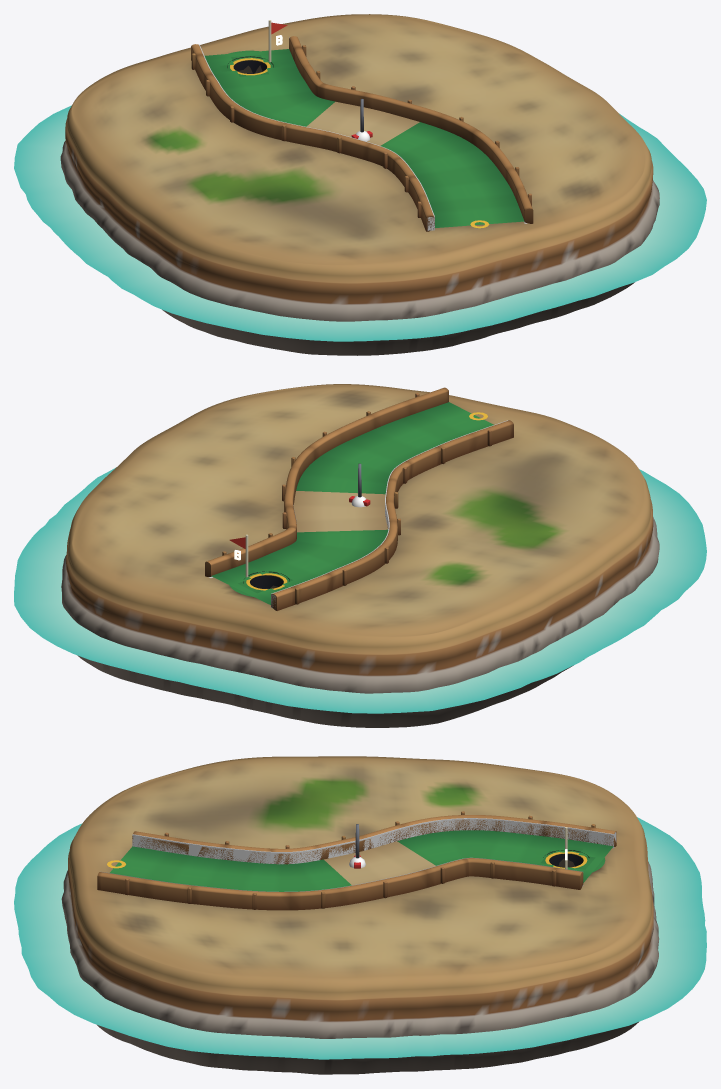
The model's file is course-08.glb.
3 views of the same model, one above another, from view 1: azimuth 30°, elevation 25°; view 2: azimuth 150°, elevation 25°; view 3: azimuth 270°, elevation 25° (orthographic). The views are drawn at different scales.
Parts seen in each view (by area): view 1: scenery-matte, water-shore, surface-grass, rail-trim-left, rail-trim-right, surface-sand; view 2: scenery-matte, water-shore, surface-grass, rail-trim-left, rail-trim-right, surface-sand; view 3: scenery-matte, water-shore, surface-grass, rail-trim-right, rail-left, rail-trim-left, surface-sand.
Boxes of the visible parts, <box> form: scenery-matte: <box>60,14,659,355</box>; water-shore: <box>14,105,706,341</box>; surface-grass: <box>204,49,524,227</box>; rail-trim-left: <box>191,44,434,231</box>; rail-trim-right: <box>289,36,533,223</box>; surface-sand: <box>306,101,419,145</box>; scenery-matte: <box>61,384,659,727</box>; water-shore: <box>14,467,706,713</box>; surface-grass: <box>211,402,493,604</box>; rail-trim-left: <box>271,420,513,610</box>; rail-trim-right: <box>205,387,448,576</box>; surface-sand: <box>293,491,387,532</box>; scenery-matte: <box>61,756,659,1074</box>; water-shore: <box>14,817,706,1059</box>; surface-grass: <box>110,830,613,891</box>; rail-trim-right: <box>97,858,583,910</box>; rail-left: <box>132,818,616,864</box>; rail-trim-left: <box>132,811,616,864</box>; surface-sand: <box>324,841,435,885</box>.
Bounding box in the file's own units: 12.16 × 3.26 × 12.8.
